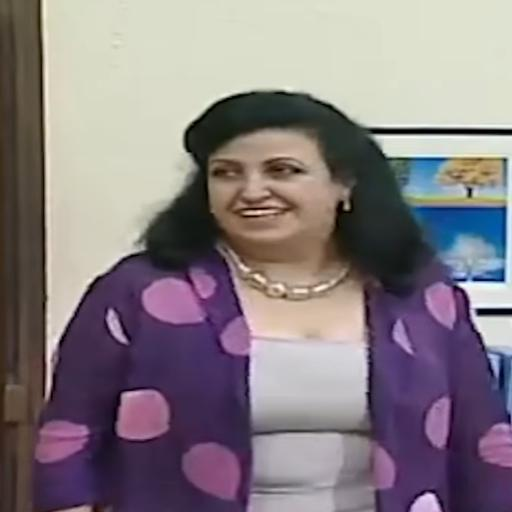jannet: (207, 130, 348, 250)
